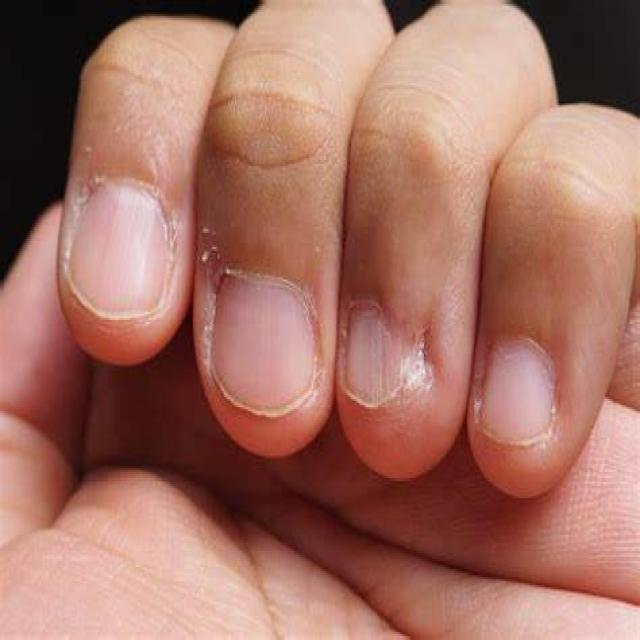Fingernail: (213, 277, 316, 417), (69, 183, 172, 318), (481, 341, 554, 444), (342, 307, 401, 408)
